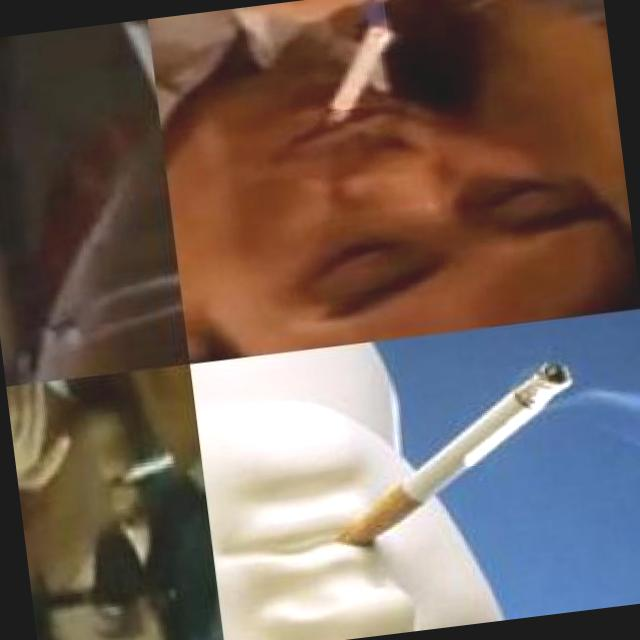smoke: (314, 358, 592, 562), (310, 23, 408, 131), (118, 21, 168, 208), (111, 448, 179, 490)
